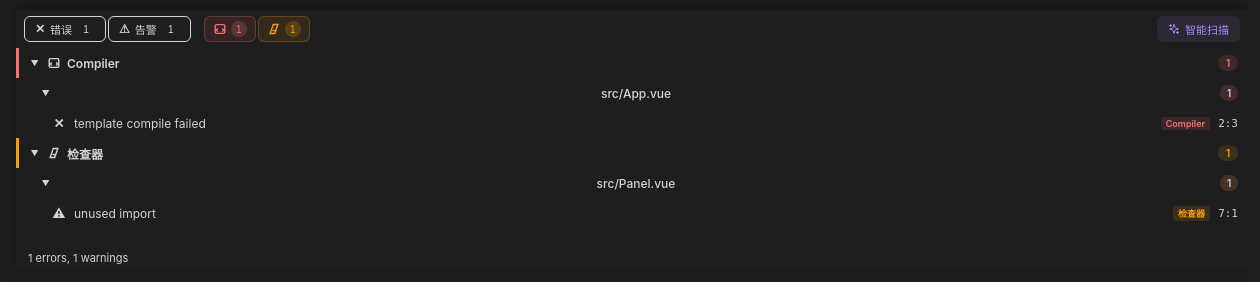
Test: ProblemsPanel › renders marker-service backed Problems projection by source and file without local diagnostic state
Expected: the element showing "1 errors, 1 warnings" is shown, [28, 251, 128, 265]
What coordinates should you click on to do the following:
click the 1st button with class "source-filter-btn"
I would click on:
 (230, 29)
Its box is [204, 16, 256, 42].
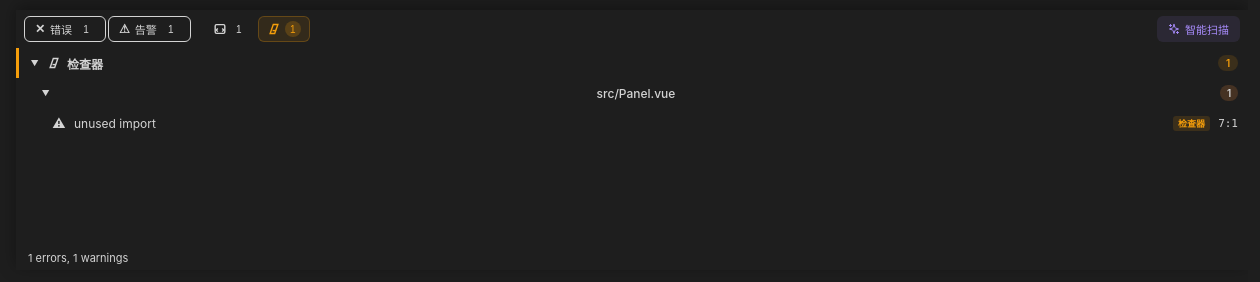
Expected: the text "unused import" is shown, [74, 116, 156, 130]
Expected: the text "template compile failed" is gone
